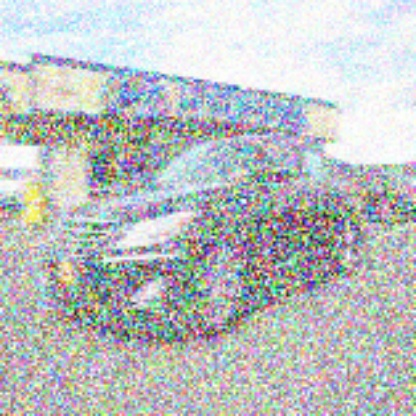Vehicle: (42, 126, 367, 342)
